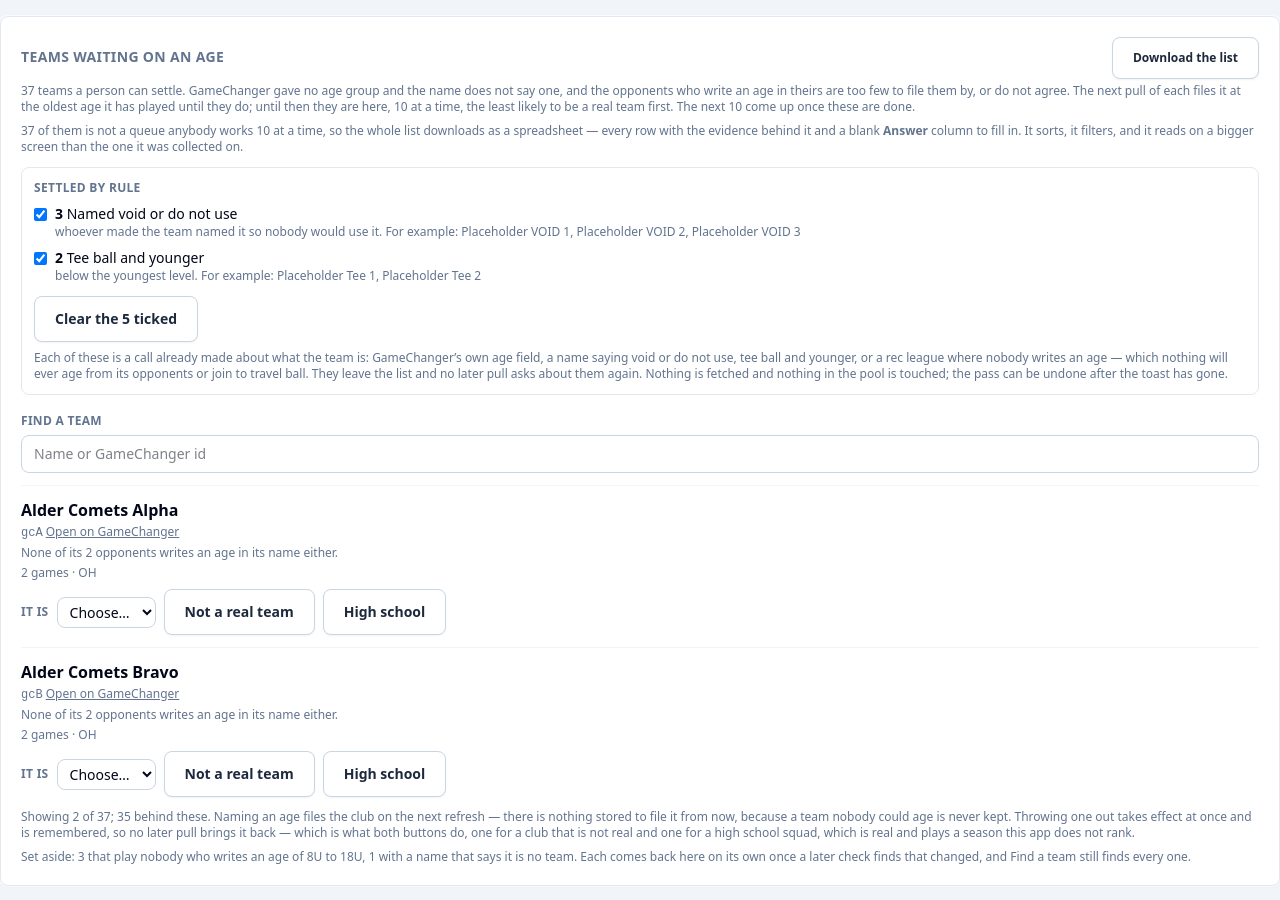
Test: the answers, sent as edits › says why a team found is set aside, from the field older builds never read
This screenshot has width=1280, height=900.
Type "team 7" into the search field with placeholder "Name or GameChanger id". click: (640, 454)
box: [21,435,1259,473]
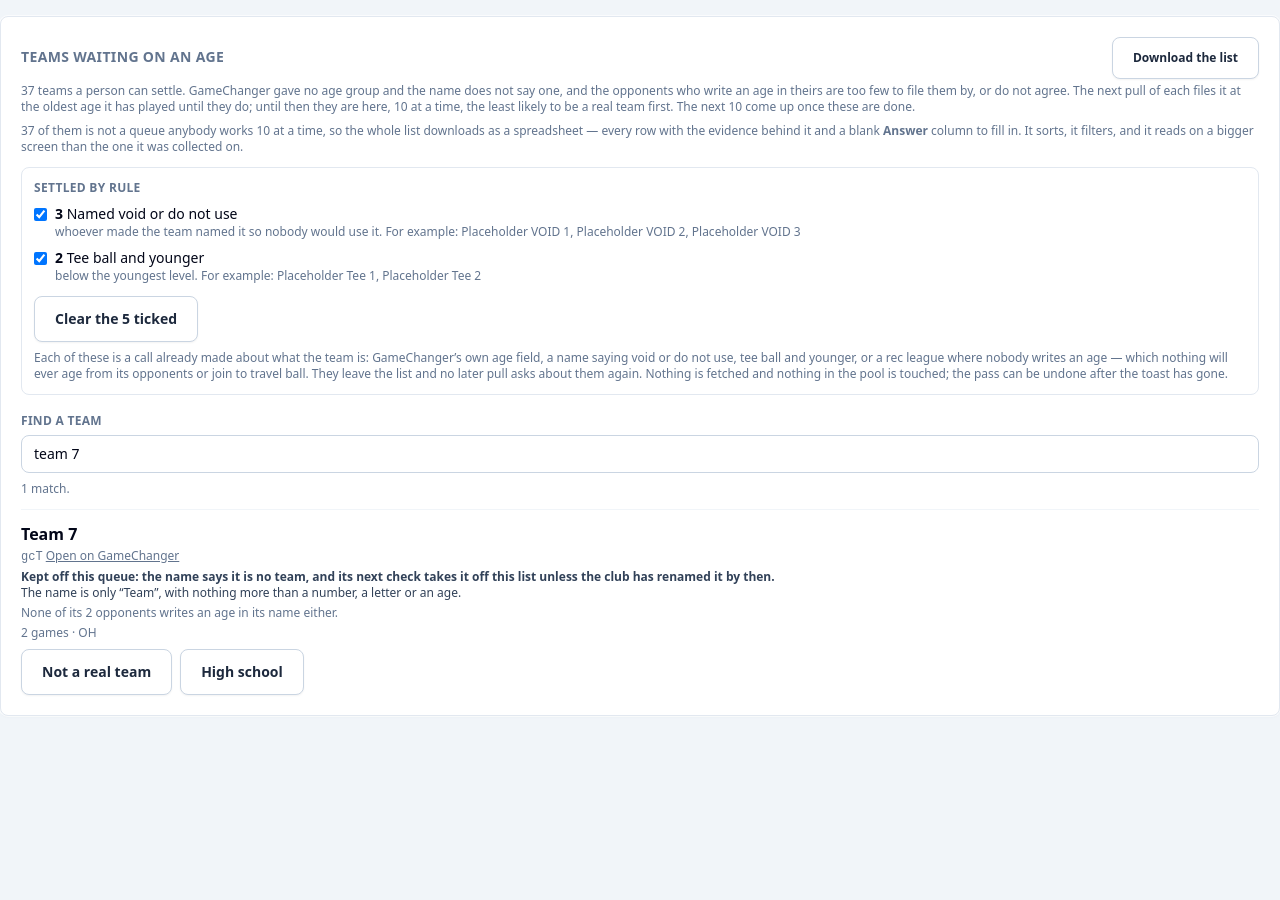
Expected: the button "Not a real team" is shown, [21,649,172,695]
Expected: the list item "Team 7" shows "the name says it is no team", [21,568,775,585]
